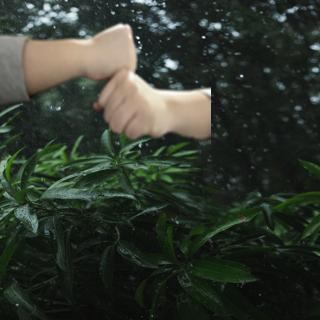CAREFUL: (26, 22, 209, 142)
